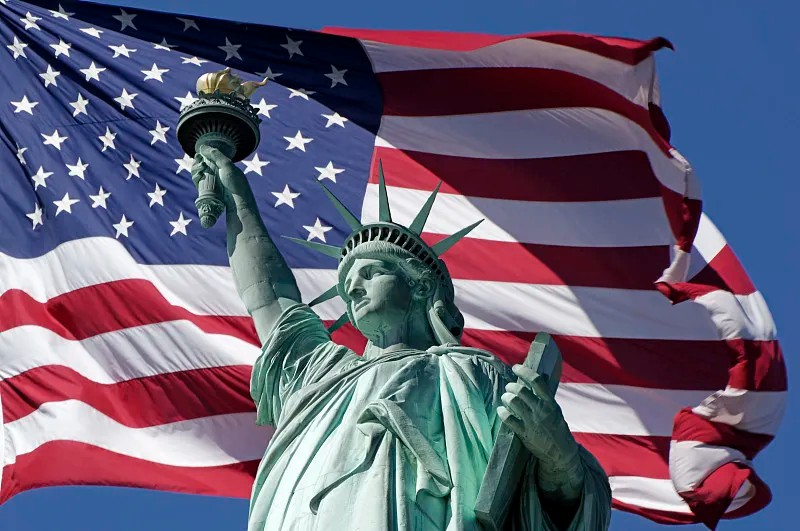SL: (177, 67, 612, 531)
